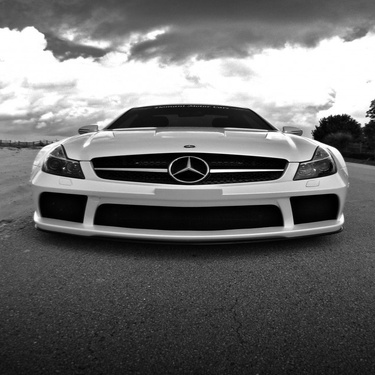car: (26, 100, 352, 249)
